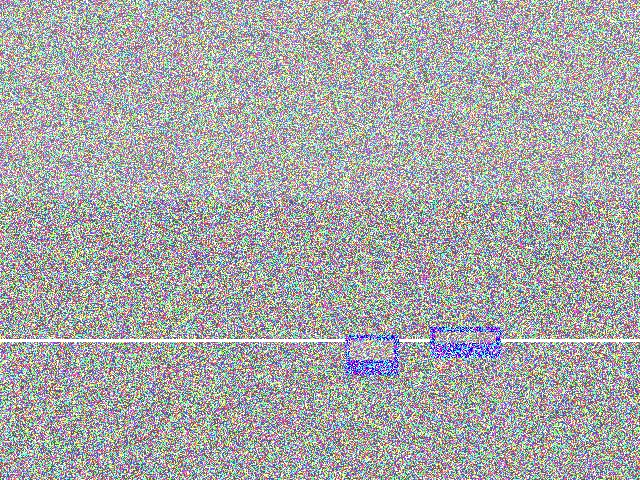bus: (215, 182, 316, 267)
car: (418, 91, 598, 209), (160, 275, 224, 382)
